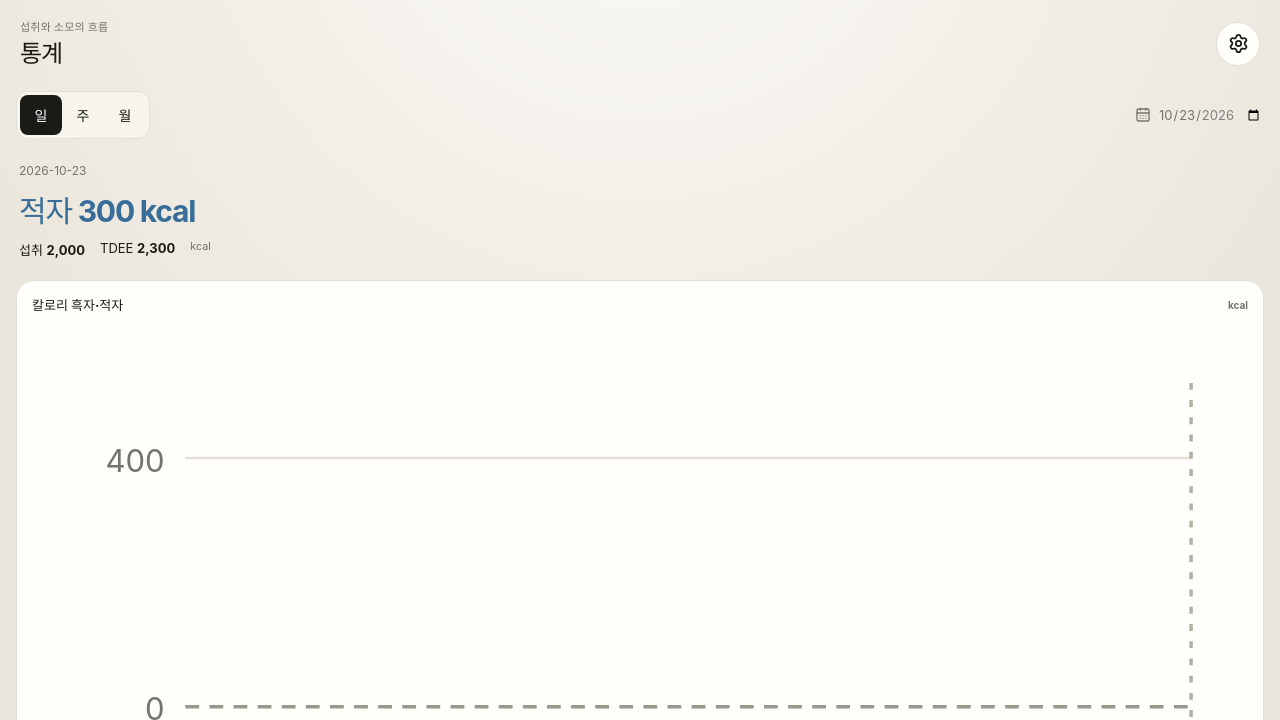
Scenario: 기록이 없는 날은 0 수지로 표시하거나 서로 떨어진 점을 선으로 연결하지 않는다
In the date field named "통계 기준 날짜": (1210, 115) [1156,100,1264,130], type "2026-10-22"
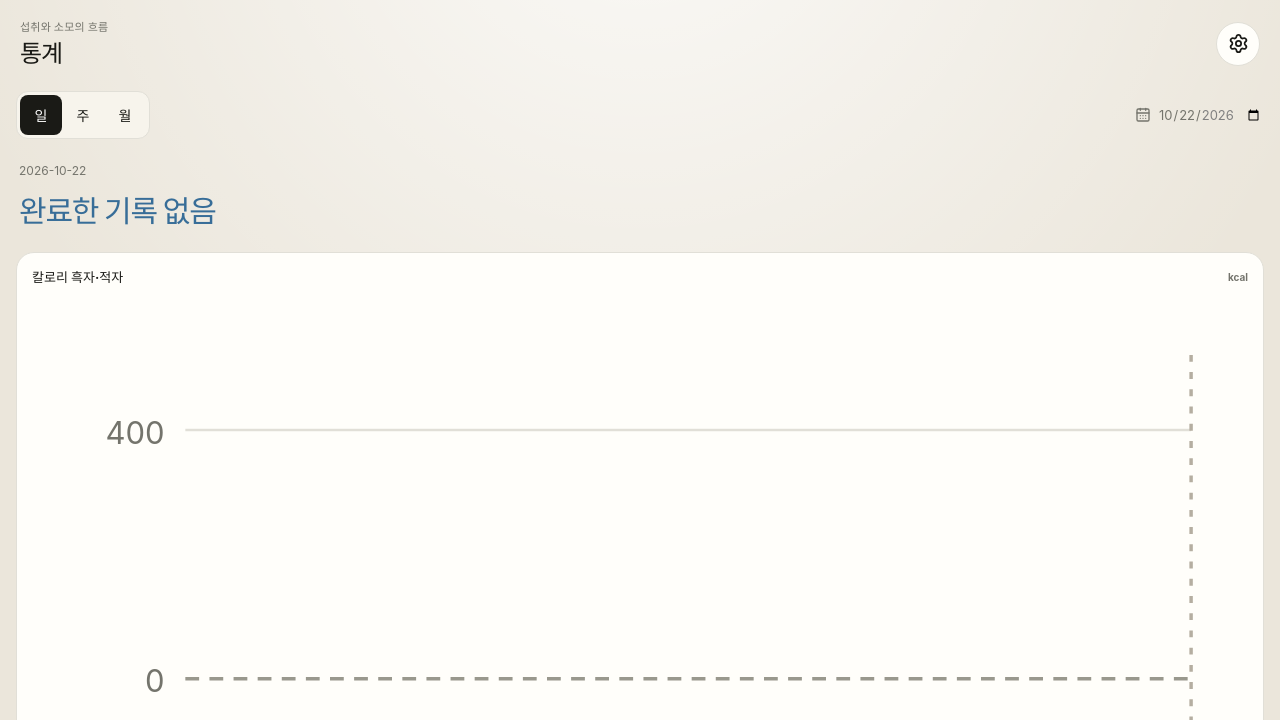
Result: the text "완료한 기록 없음" is shown at [19,193,216,229]
